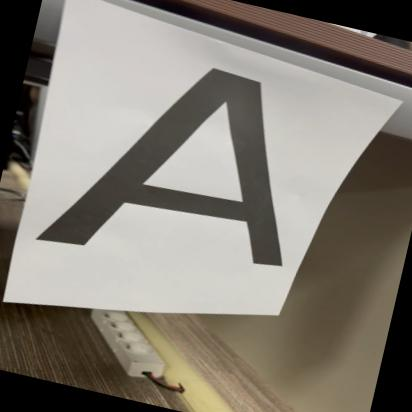seat: (24, 28, 332, 307)
